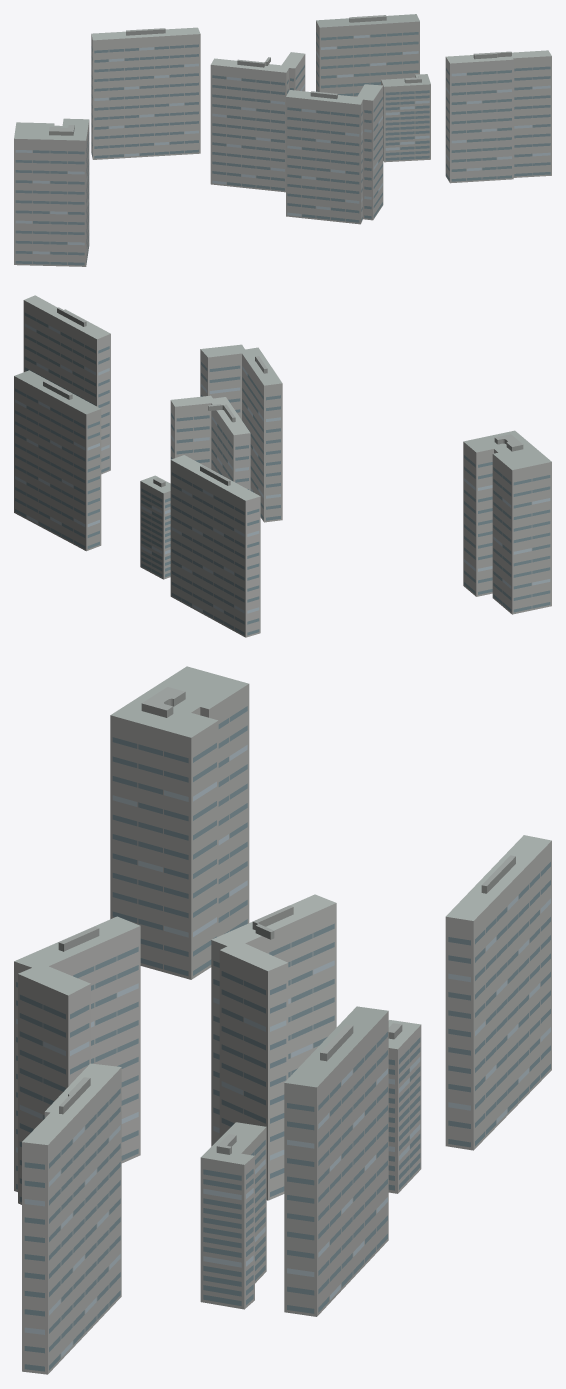
Rendered from apt-a10024214.glb.
The picture shows the model from 3 angles, top to bottom: view 1: azimuth 30°, elevation 25°; view 2: azimuth 150°, elevation 25°; view 3: azimuth 270°, elevation 25°; orthographic projection. The views are drawn at different scales.
Parts seen in each view (by area): view 1: apt-a10024214; view 2: apt-a10024214; view 3: apt-a10024214.
Part boxes in pixels (bbox=[...]): apt-a10024214: bbox=[14, 14, 551, 266]; apt-a10024214: bbox=[14, 295, 551, 637]; apt-a10024214: bbox=[14, 666, 551, 1374].
Size of the model in its own units: 316 by 79 by 154.
